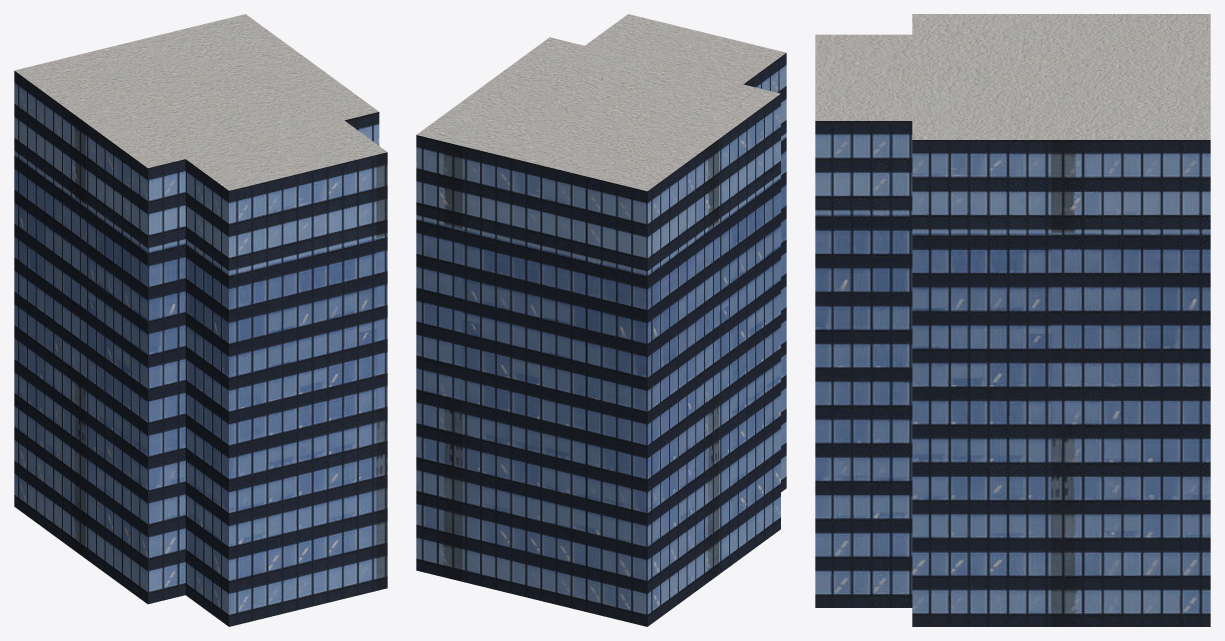
The model's file is office_3.glb.
The picture shows the model from 3 angles, left to right: view 1: azimuth 30°, elevation 25°; view 2: azimuth 150°, elevation 25°; view 3: azimuth 270°, elevation 25°; orthographic projection. The views are drawn at different scales.
Parts seen in each view (by area): view 1: building_002.001; view 2: building_002.001; view 3: building_002.001.
Boxes of the visible parts, x1=… form: building_002.001: x1=14, y1=14, x2=387, y2=626; building_002.001: x1=416, y1=14, x2=786, y2=626; building_002.001: x1=815, y1=14, x2=1210, y2=626.
Size of the model in its own units: 1000 by 1800 by 1325.
2 materials, 2 textured.
